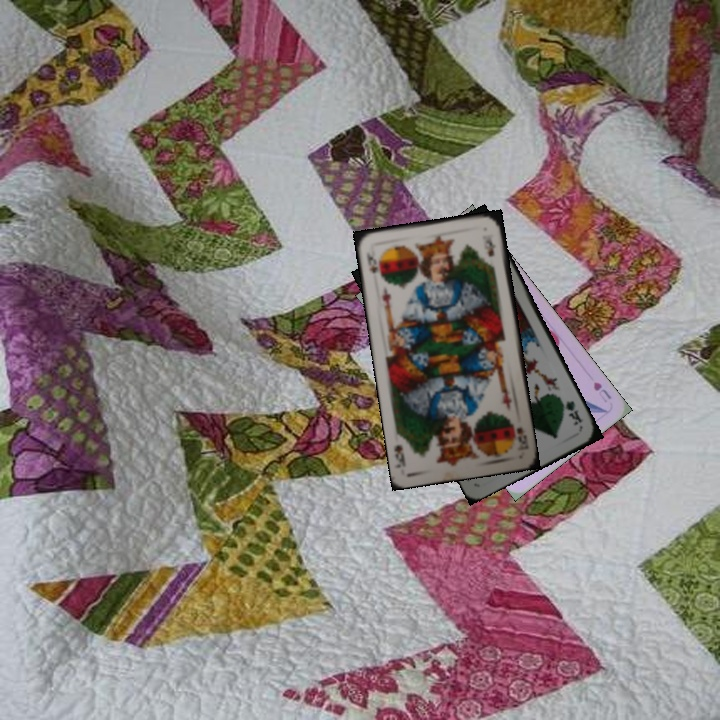GK: (556, 395, 585, 428)
HU: (589, 377, 614, 405)
SK: (364, 248, 384, 282), (513, 423, 529, 453)
